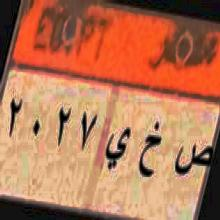0: (30, 116, 42, 145)
2: (7, 87, 23, 145), (58, 96, 71, 156)
7: (79, 105, 98, 155)
khaa: (138, 114, 162, 192)
saad: (171, 133, 215, 179)
yaa: (104, 126, 132, 175)
